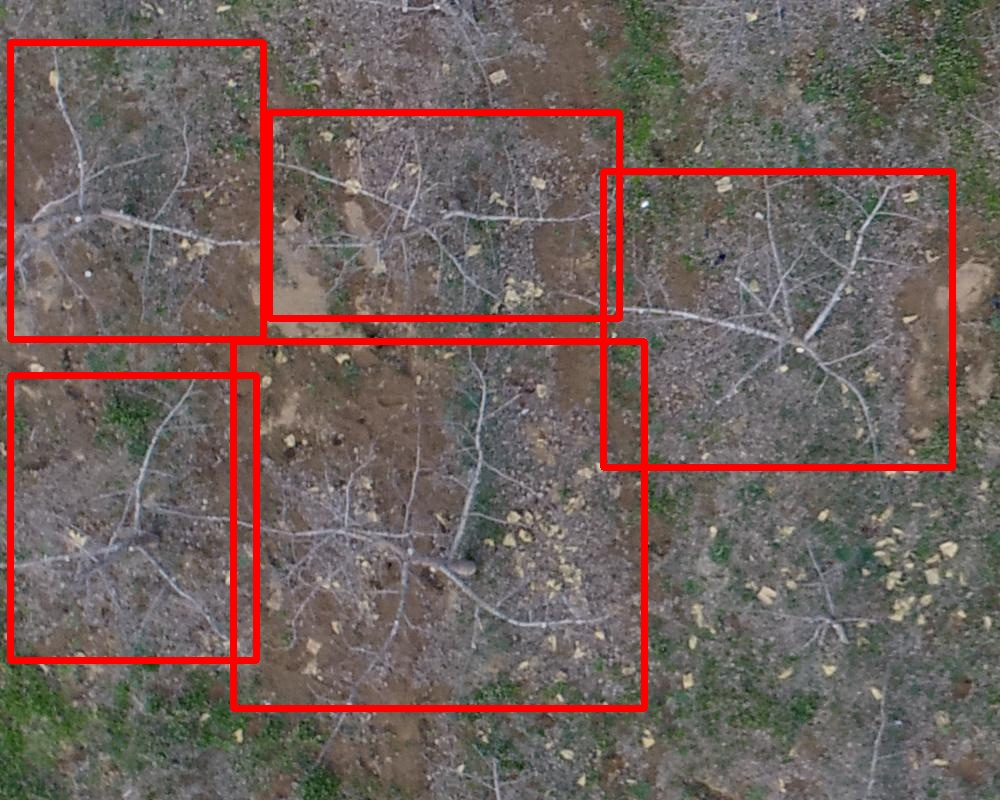apple: (233, 341, 644, 708), (603, 171, 952, 467), (10, 42, 263, 339), (269, 112, 619, 318), (10, 375, 256, 660)
